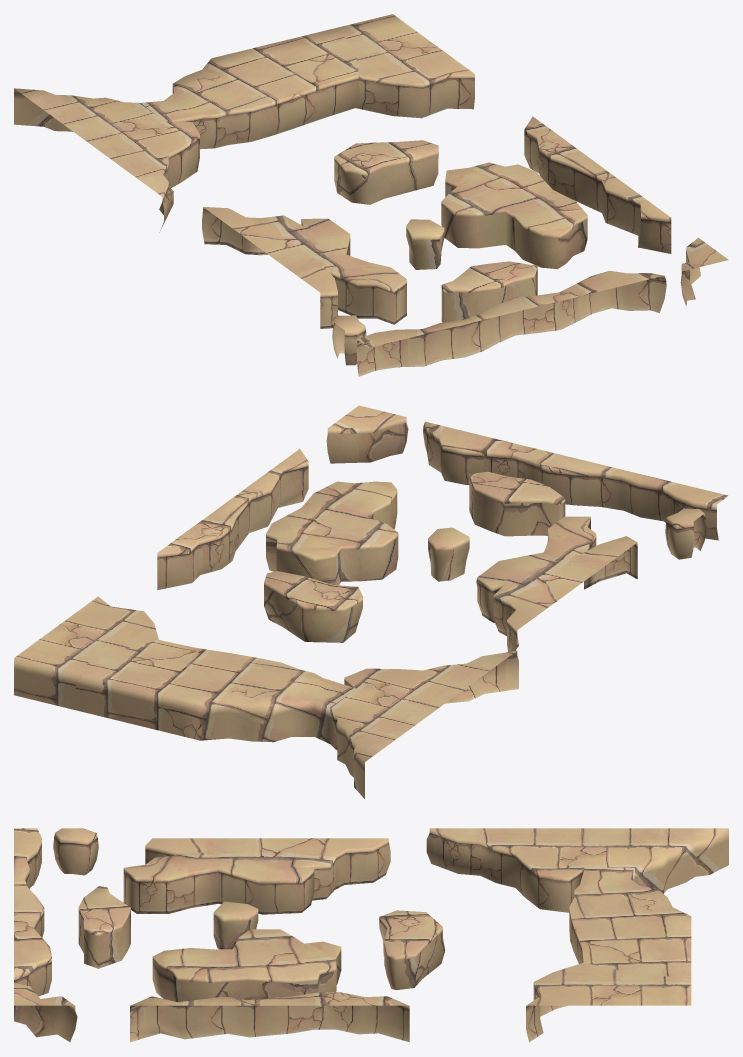
The model's file is BrokenFloor2.fbx.
3 renders of one model, top to bottom at view 1: azimuth 30°, elevation 25°; view 2: azimuth 150°, elevation 25°; view 3: azimuth 270°, elevation 25°, orthographic. The views are drawn at different scales.
Parts seen in each view (by area): view 1: pCube4; view 2: pCube4; view 3: pCube4.
Boxes of the visible parts, bbox=[...] form: pCube4: bbox=[14, 14, 728, 376]; pCube4: bbox=[14, 405, 728, 798]; pCube4: bbox=[14, 828, 728, 1042].
Bounding box in the file's own units: 1811 × 201 × 3064.
